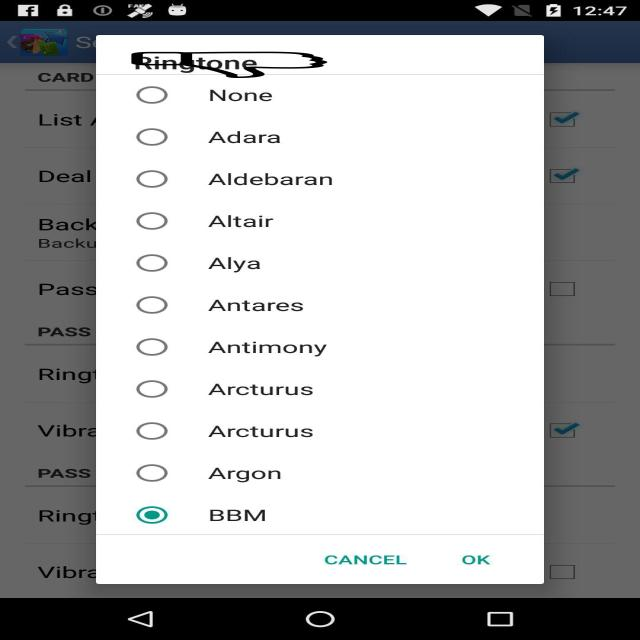obstruction: (129, 52, 330, 78)
